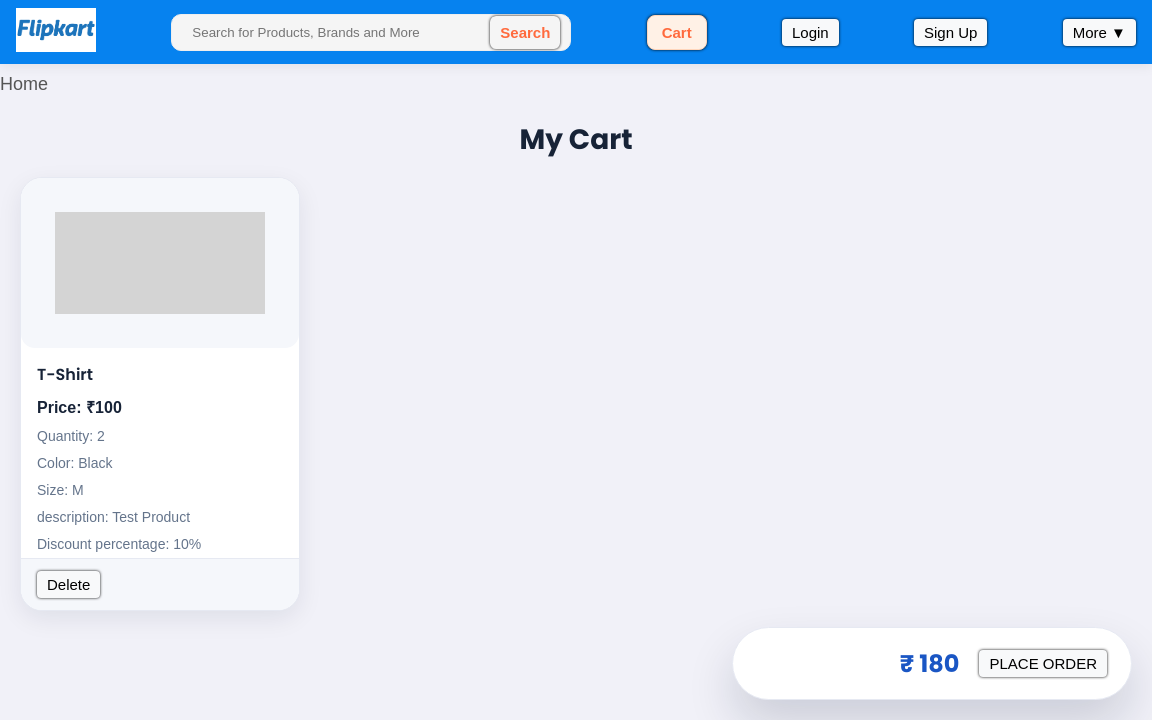
Cart Page › opens delete confirmation popup
The image size is (1152, 720).
Click the button "Delete" at coordinates (69, 585), box [37, 571, 100, 598]
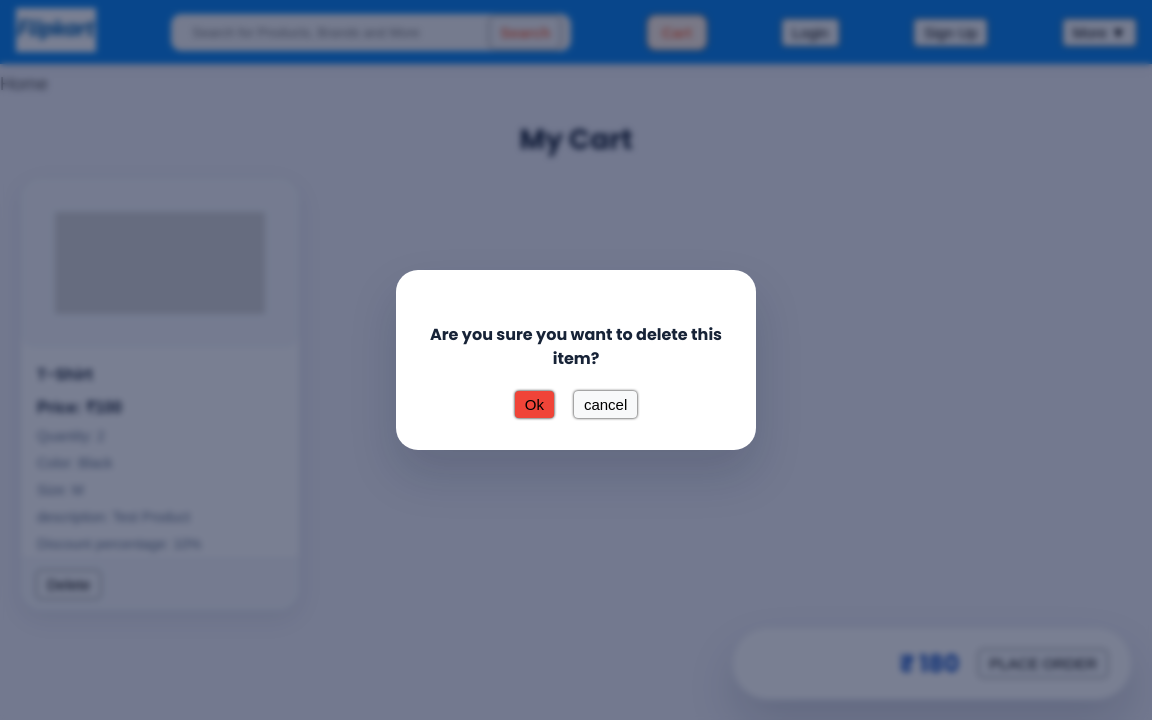
Result: the heading "Are you sure you want to delete this item?" is shown at [428, 323, 724, 371]
